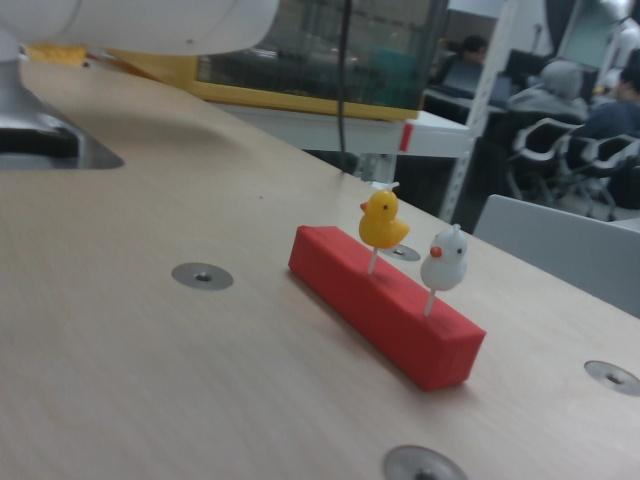w_duck: (419, 214, 474, 297)
y_duck: (350, 174, 417, 255)
